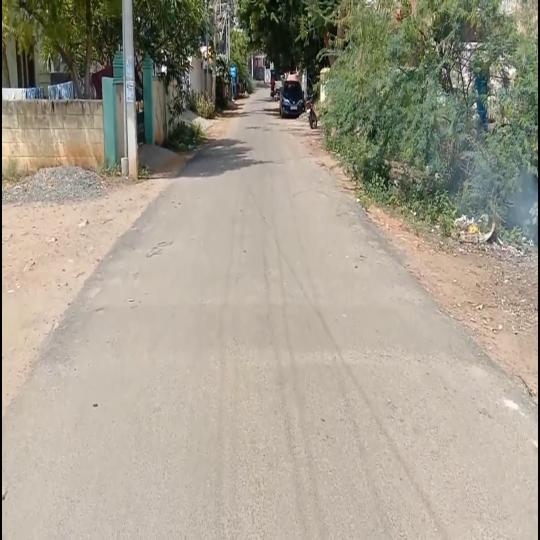Speed Bump: (50, 302, 477, 354)
